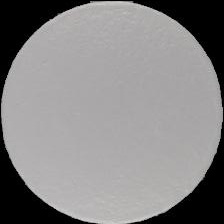59762-0800: (0, 0, 224, 224)
